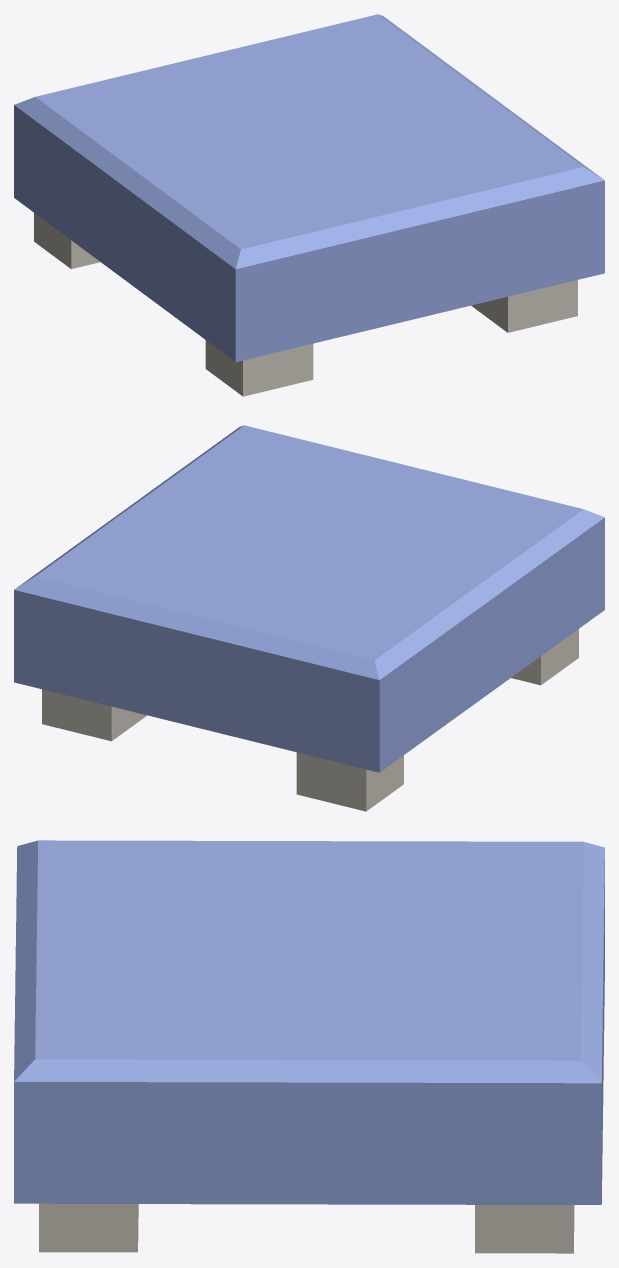
Rendered from Ottomen.fbx.
3 views of the same model, one above another, from view 1: azimuth 30°, elevation 25°; view 2: azimuth 150°, elevation 25°; view 3: azimuth 270°, elevation 25° (orthographic). The views are drawn at different scales.
Parts seen in each view (by area): view 1: Ottomen; view 2: Ottomen; view 3: Ottomen.
Part boxes in pixels (x1=…): Ottomen: x1=14, y1=14, x2=604, y2=396; Ottomen: x1=14, y1=425, x2=604, y2=811; Ottomen: x1=14, y1=840, x2=604, y2=1253.
Bounding box in the file's own units: 66.78 × 25.7 × 70.34.
